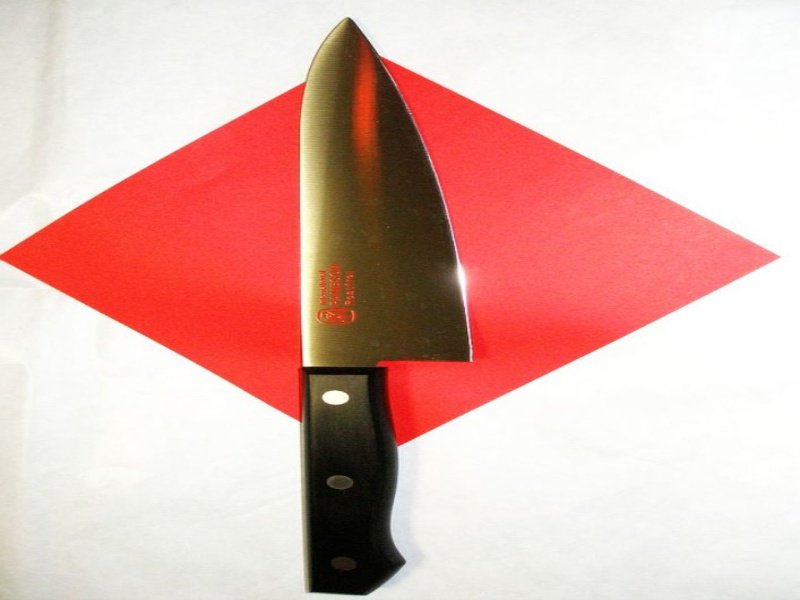knife: (296, 14, 476, 600)
